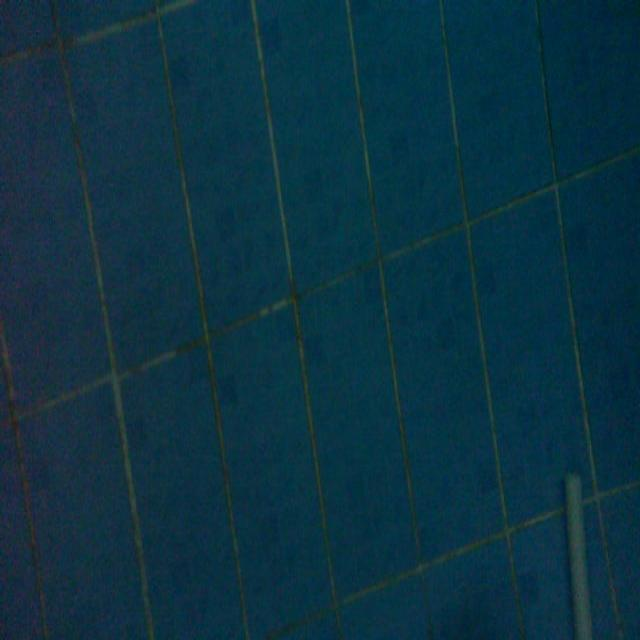Cube: (561, 468, 594, 636)
